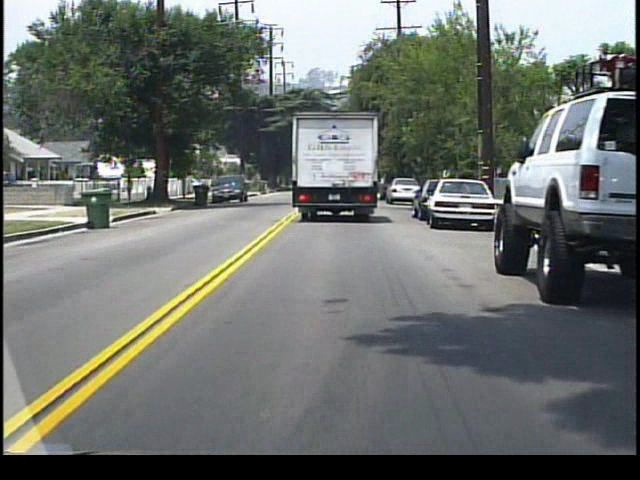person: (126, 174, 137, 204)
